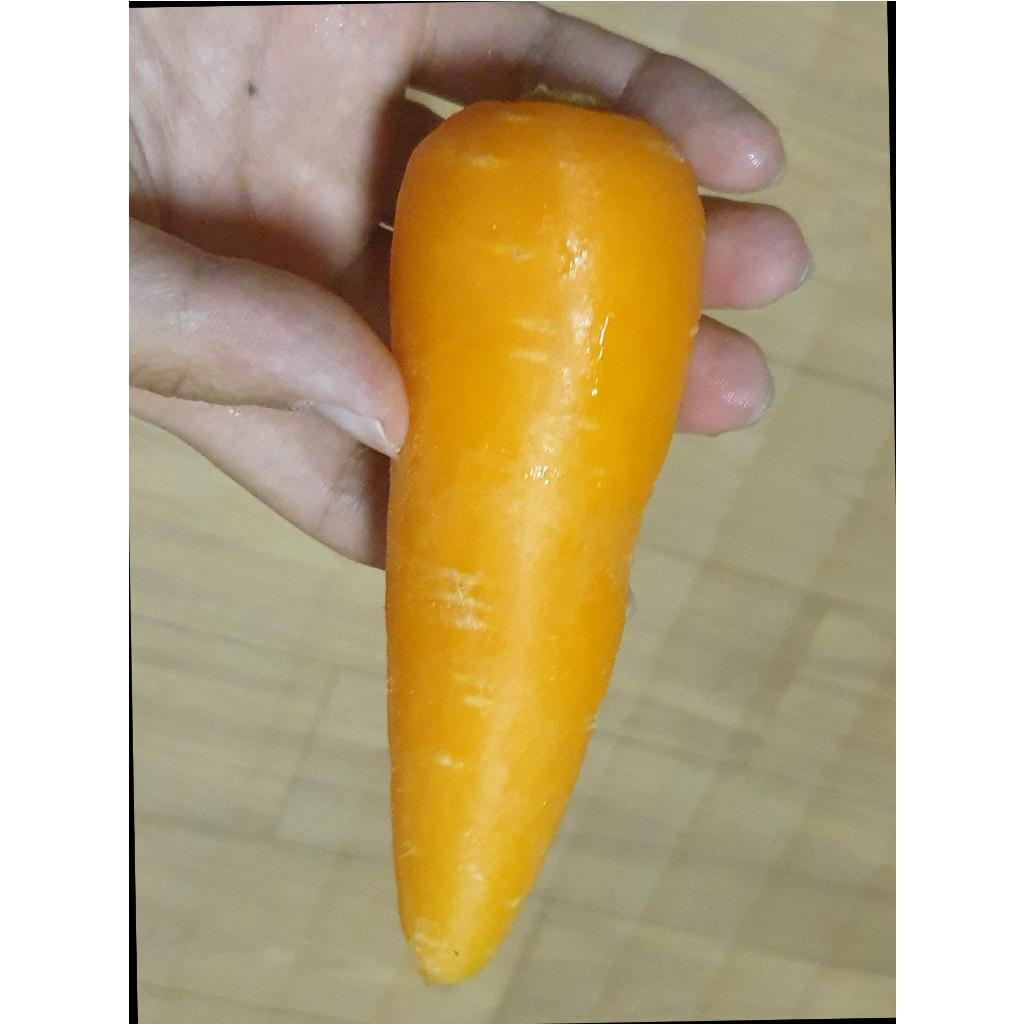carrot: (386, 100, 704, 983)
